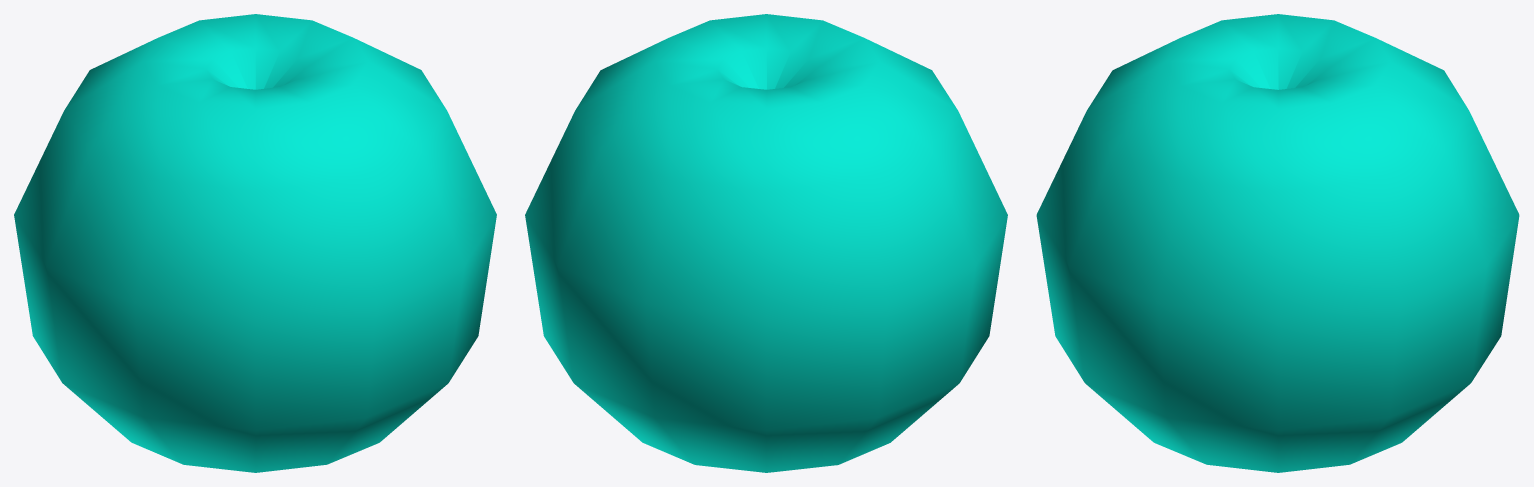
File: kitchen_Orange.fbx
3 renders of one model, left to right at view 1: azimuth 30°, elevation 25°; view 2: azimuth 150°, elevation 25°; view 3: azimuth 270°, elevation 25°, orthographic.
Parts seen in each view (by area): view 1: LivingRoom_Orange001; view 2: LivingRoom_Orange001; view 3: LivingRoom_Orange001.
Part boxes in pixels (x1=…): LivingRoom_Orange001: x1=14, y1=14, x2=496, y2=472; LivingRoom_Orange001: x1=525, y1=14, x2=1007, y2=472; LivingRoom_Orange001: x1=1036, y1=14, x2=1519, y2=472.
Size of the model in its own units: 0.768 by 0.635 by 0.769.
